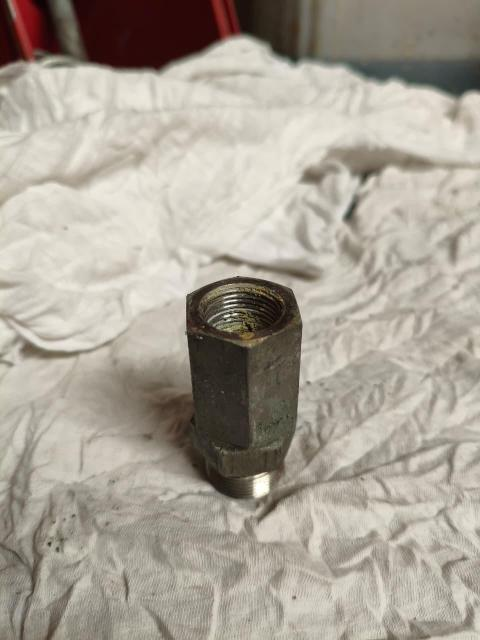Metal: (188, 277, 302, 488)
